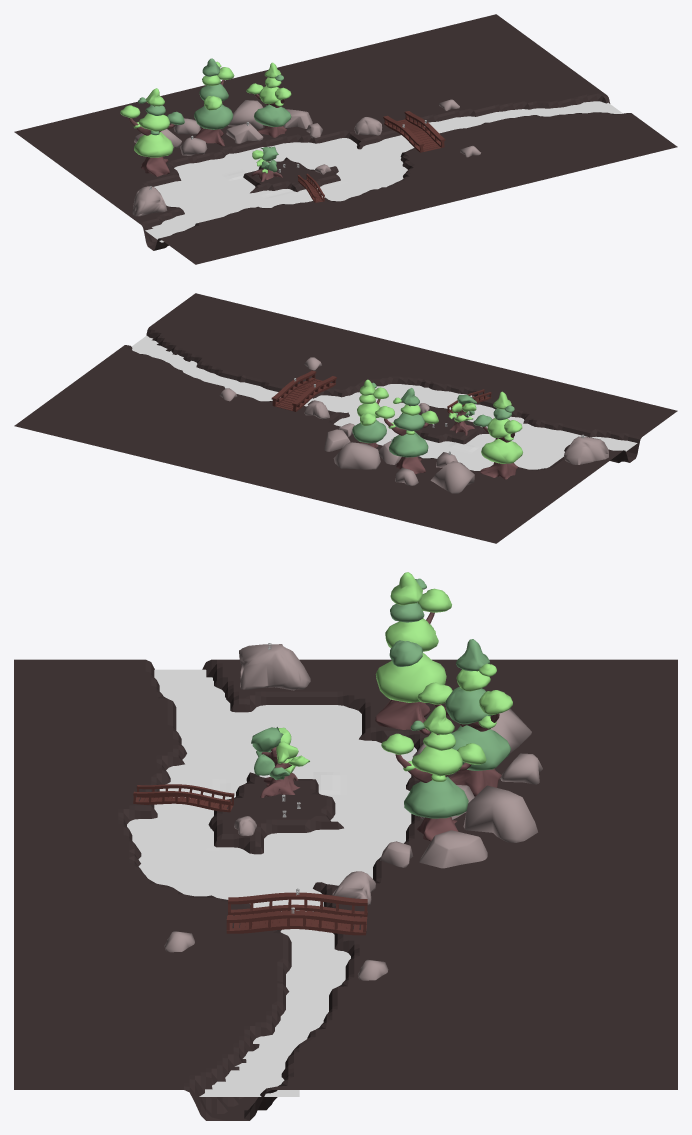
The model's file is game_world.fbx.
The picture shows the model from 3 angles, top to bottom: view 1: azimuth 30°, elevation 25°; view 2: azimuth 150°, elevation 25°; view 3: azimuth 270°, elevation 25°; orthographic projection. The views are drawn at different scales.
Visible parts, largest first — view 1: Ground, Water.001, bridge.002, Stone.001, Sphere.014, Sphere.035, Sphere.044, Stone.010, Tree2, Stone.006, Stone.002, Sphere.013 (+3 smaller); view 2: Ground, Water.001, bridge.002, Stone.010, Stone.001, Stone.014, Sphere.014, Sphere.035, Sphere.044, Tree2, Tree2.001, Sphere.034 (+1 smaller); view 3: Ground, Water.001, bridge.002, Stone.010, Stone.001, Sphere.014, Sphere.044, Stone.009, bridge.003, Sphere.035, Tree2, Sphere.034 (+8 smaller).
Boxes of the visible parts, left/top/right/bottom form: Ground: left=14, top=14, right=677, bottom=264; Water.001: left=145, top=101, right=622, bottom=242; bridge.002: left=383, top=111, right=445, bottom=152; Stone.001: left=132, top=186, right=167, bottom=216; Sphere.014: left=134, top=132, right=173, bottom=157; Sphere.035: left=194, top=104, right=233, bottom=129; Sphere.044: left=254, top=104, right=291, bottom=127; Stone.010: left=228, top=100, right=263, bottom=128; Tree2: left=129, top=102, right=175, bottom=176; Stone.006: left=226, top=123, right=263, bottom=143; Stone.002: left=354, top=117, right=382, bottom=135; Sphere.013: left=139, top=113, right=169, bottom=131; Ground: left=14, top=293, right=677, bottom=543; Water.001: left=131, top=335, right=637, bottom=470; bridge.002: left=271, top=370, right=336, bottom=411; Stone.010: left=333, top=442, right=380, bottom=469; Stone.001: left=564, top=436, right=608, bottom=464; Stone.014: left=430, top=461, right=474, bottom=493; Sphere.014: left=481, top=438, right=522, bottom=463; Sphere.035: left=389, top=432, right=428, bottom=457; Sphere.044: left=352, top=419, right=386, bottom=443; Tree2: left=480, top=426, right=518, bottom=479; Tree2.001: left=384, top=402, right=429, bottom=474; Sphere.034: left=393, top=413, right=424, bottom=431; Ground: left=14, top=659, right=677, bottom=1120; Water.001: left=127, top=669, right=416, bottom=1096; bridge.002: left=226, top=892, right=367, bottom=935; Stone.010: left=463, top=785, right=537, bottom=842; Stone.001: left=239, top=644, right=310, bottom=690; Sphere.014: left=375, top=652, right=446, bottom=702; Sphere.044: left=404, top=776, right=468, bottom=818; Stone.009: left=419, top=830, right=487, bottom=868; bridge.003: left=133, top=784, right=234, bottom=812; Sphere.035: left=451, top=725, right=510, bottom=770; Tree2: left=375, top=612, right=434, bottom=734; Sphere.034: left=445, top=687, right=491, bottom=724.
Bounding box in the file's own units: 8240 × 1665 × 5372.
